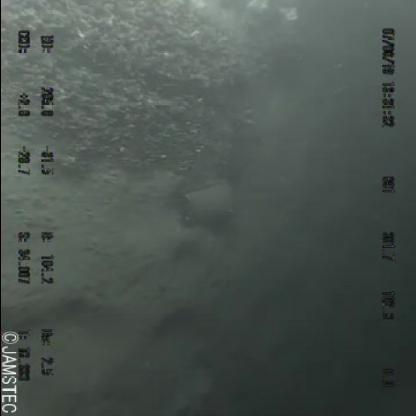Rác: (169, 174, 244, 232)
